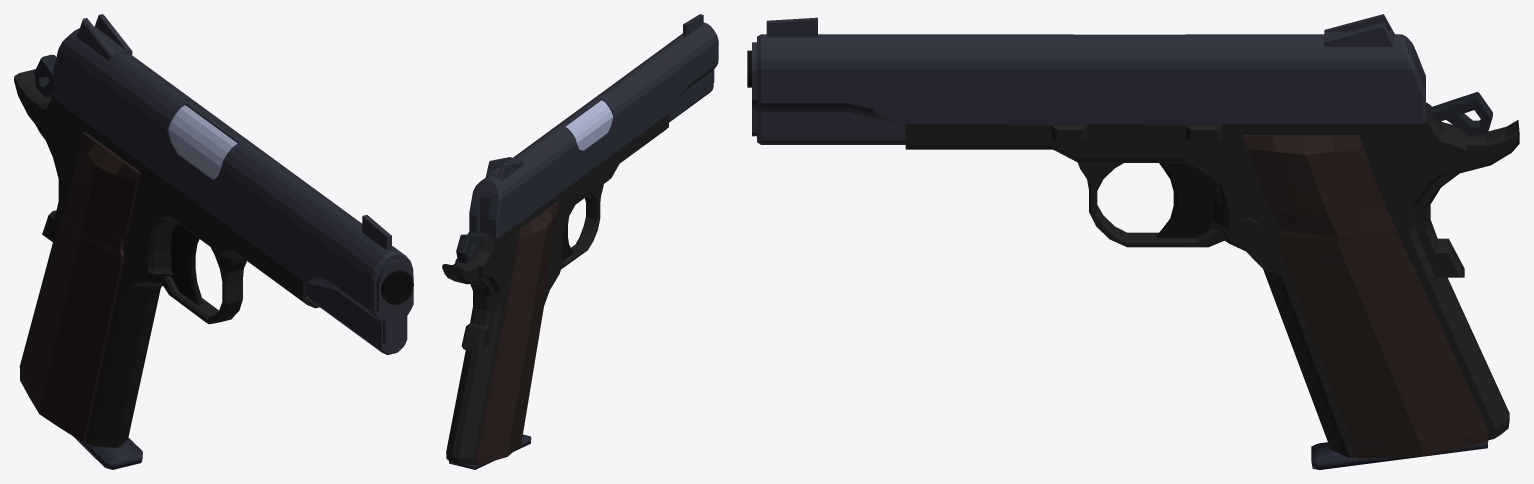
The picture shows the model from 3 angles, left to right: view 1: azimuth 30°, elevation 25°; view 2: azimuth 150°, elevation 25°; view 3: azimuth 270°, elevation 25°; orthographic projection. The views are drawn at different scales.
Parts seen in each view (by area): view 1: m1911; view 2: m1911; view 3: m1911.
Part boxes in pixels (x1,y1,x2,y2): m1911: [14, 14, 413, 469]; m1911: [442, 14, 718, 469]; m1911: [747, 14, 1519, 469].
Bounding box in the file's own units: 0.0233 × 0.1365 × 0.216.
8 materials, 8 textured.
